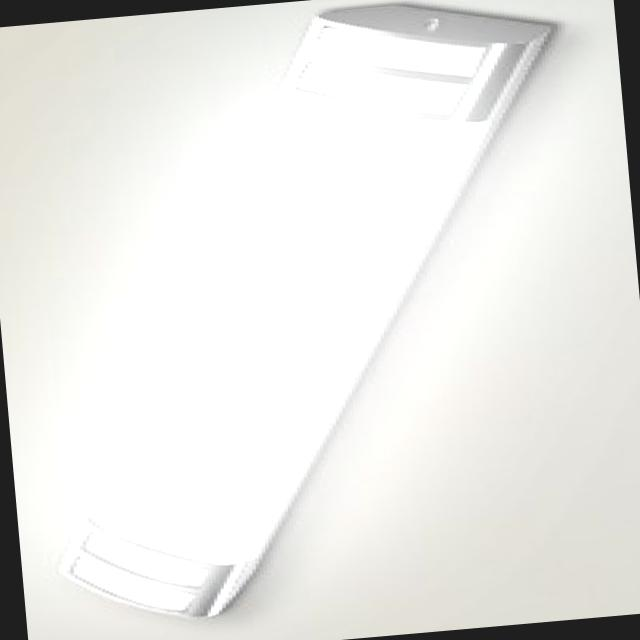light: (0, 0, 560, 621)
